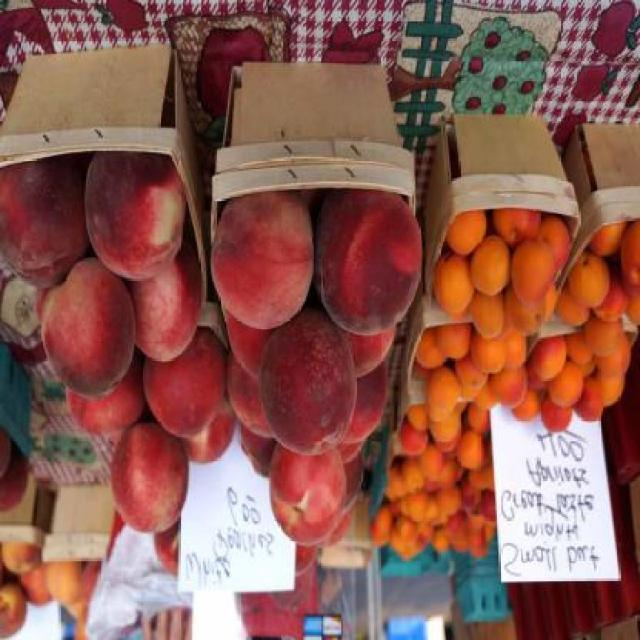Peach: (0, 152, 423, 580), (0, 546, 106, 640), (0, 448, 29, 514), (0, 429, 12, 476)
